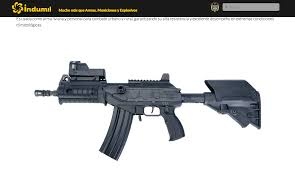Arma Real: (33, 60, 260, 159)
